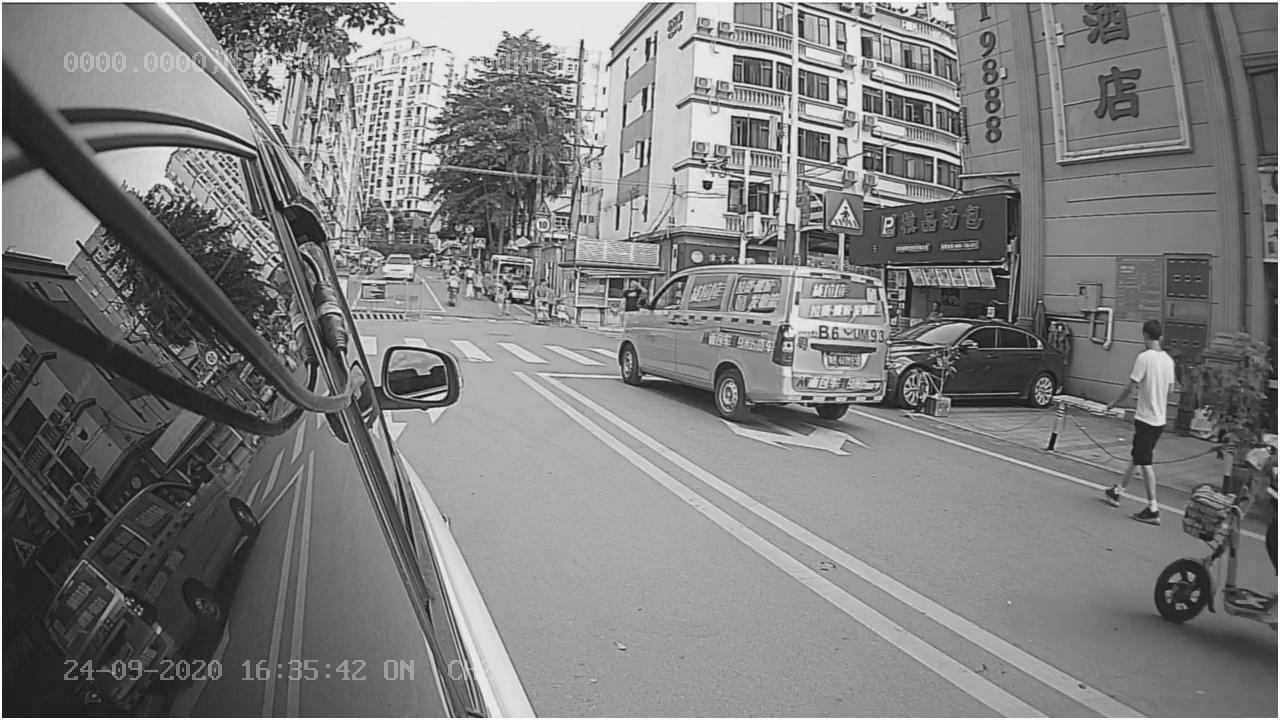person: (1083, 313, 1187, 539)
